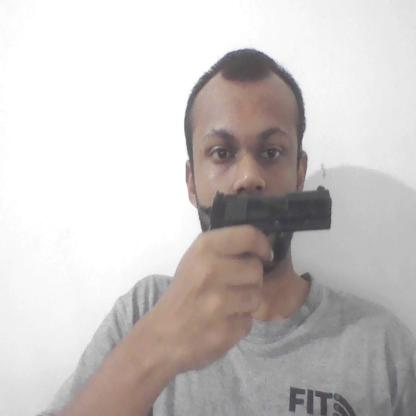handgun: (199, 185, 333, 263)
